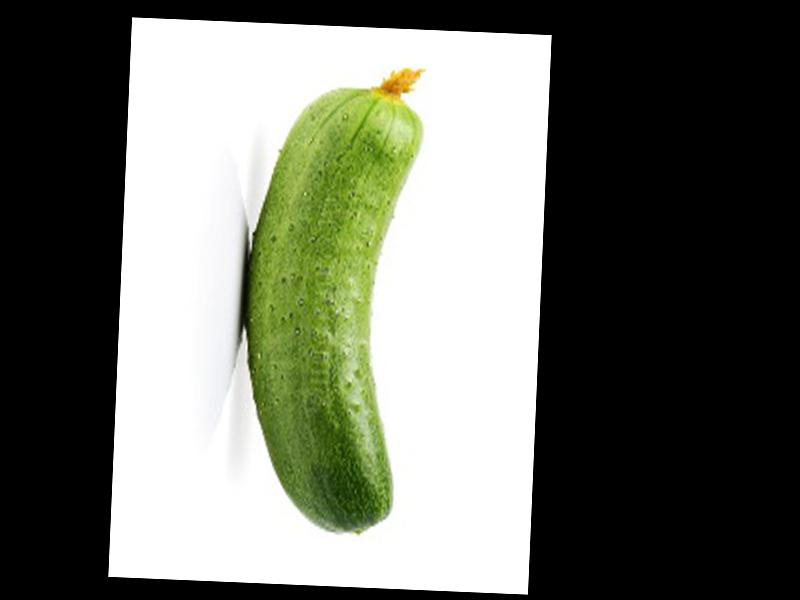Cucumber: (234, 57, 427, 538)
